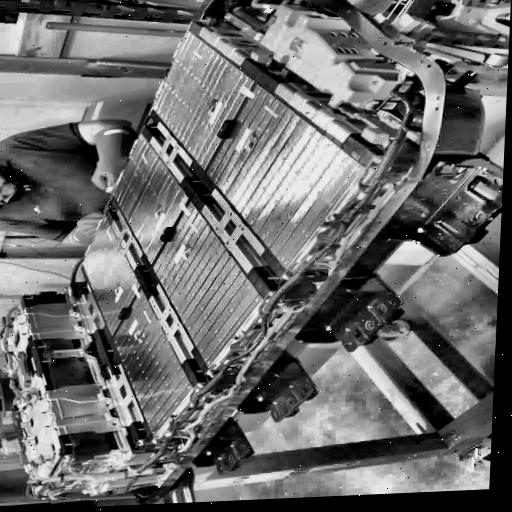battery_module: (205, 84, 367, 269), (151, 199, 262, 368), (153, 32, 254, 169), (112, 286, 193, 435), (113, 131, 186, 263), (81, 212, 143, 336), (0, 369, 20, 414)
high_volt_cable: (34, 176, 398, 484)
low_volt_cable: (22, 71, 415, 503)
